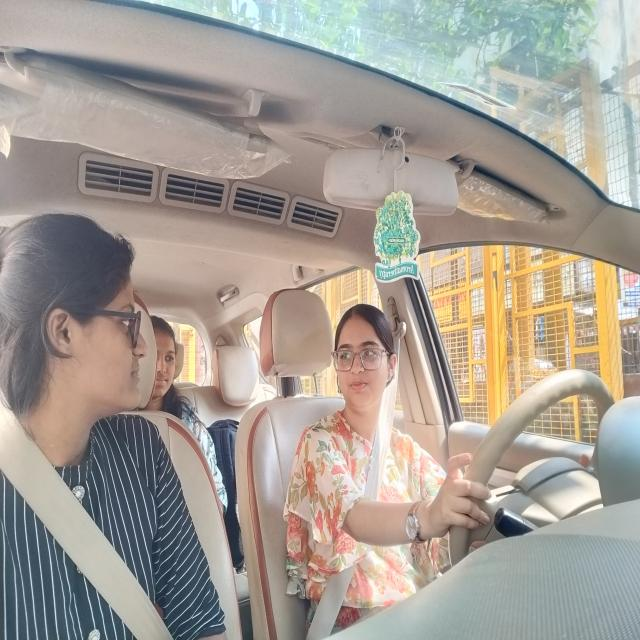LeftRight: (334, 306, 393, 432)
person: (8, 207, 140, 452), (148, 306, 184, 412)
